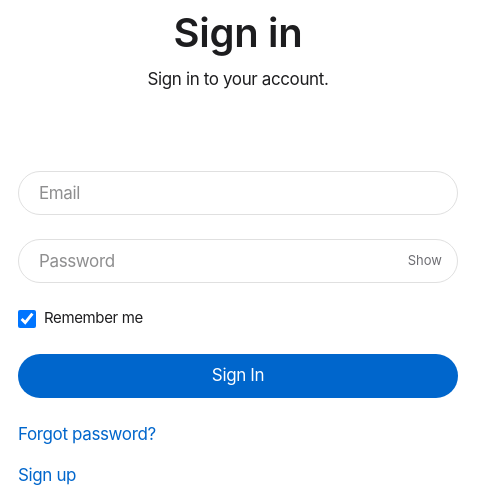
Test: SignInPage - Validation › should disable button while loading
Type "test@example.com" into the field with placeholder "Email" at [238, 194], box [18,172,458,216]
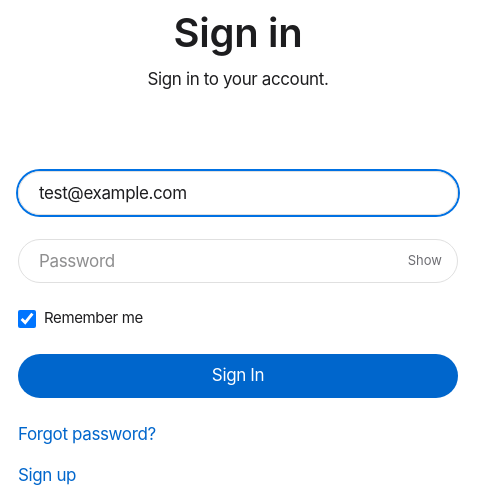
Type "password123" into the password field with placeholder "Password" at [238, 262], box [18,240,458,284]
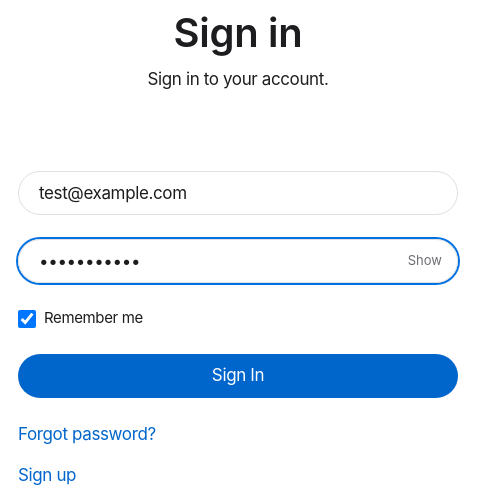
Click the button "Sign In" at [238, 376], box [18,354,458,398]
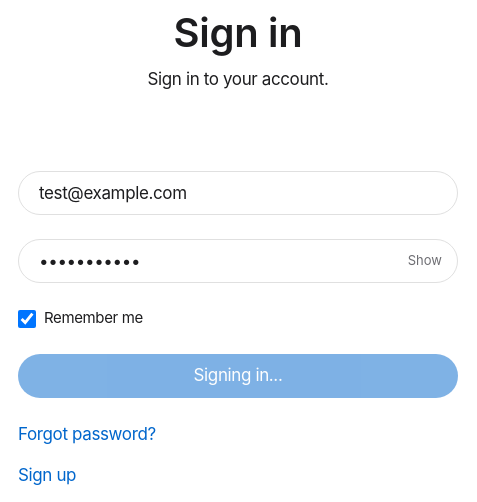
Result: the button named "sign in" is disabled at [18,354,458,398]
